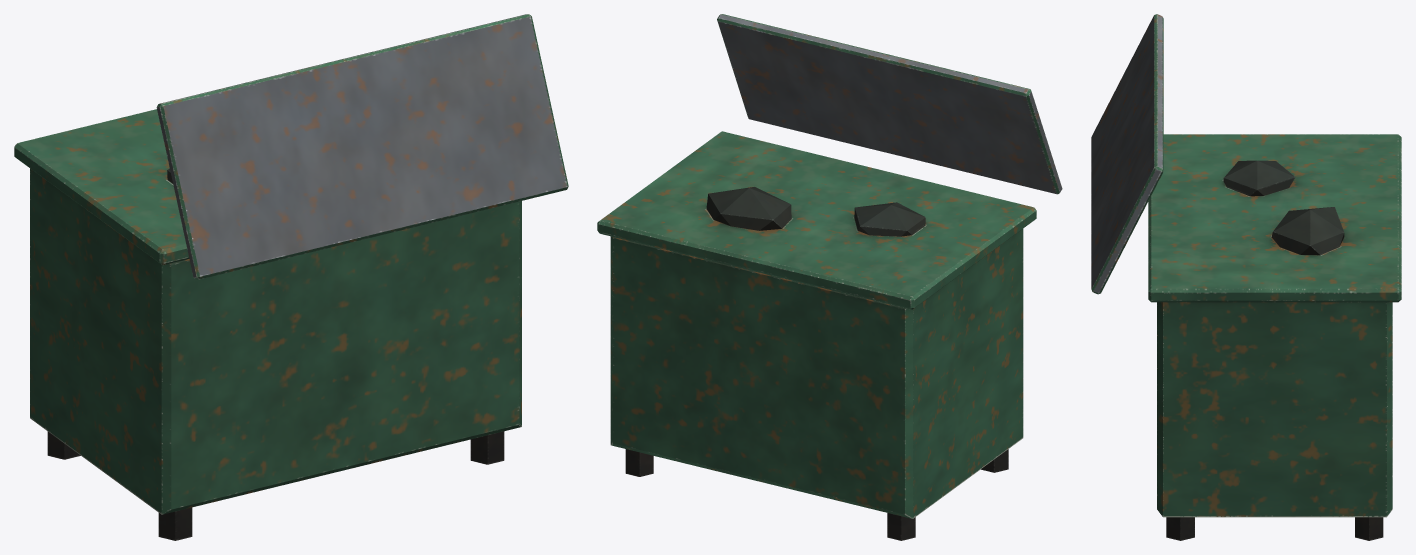
The model's file is Contenedor_Basura.glb.
3 renders of one model, left to right at view 1: azimuth 30°, elevation 25°; view 2: azimuth 150°, elevation 25°; view 3: azimuth 270°, elevation 25°, orthographic. The views are drawn at different scales.
Visible parts, largest first — view 1: Contenedor_Basura; view 2: Contenedor_Basura; view 3: Contenedor_Basura.
Boxes of the visible parts, <box> form: Contenedor_Basura: <box>14,14,568,540</box>; Contenedor_Basura: <box>597,14,1062,540</box>; Contenedor_Basura: <box>1091,14,1401,540</box>.
Bounding box in the file's own units: 6.3 × 7.1 × 5.26.
1 material, 1 textured.
